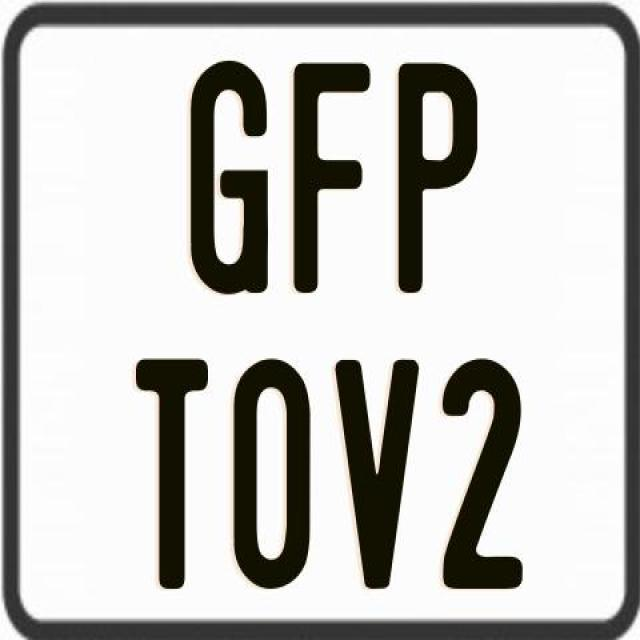0: (229, 355, 315, 595)
2: (442, 353, 526, 592)
F: (292, 59, 375, 298)
G: (188, 56, 272, 294)
P: (398, 59, 482, 298)
T: (136, 355, 211, 586)
V: (333, 358, 420, 597)
